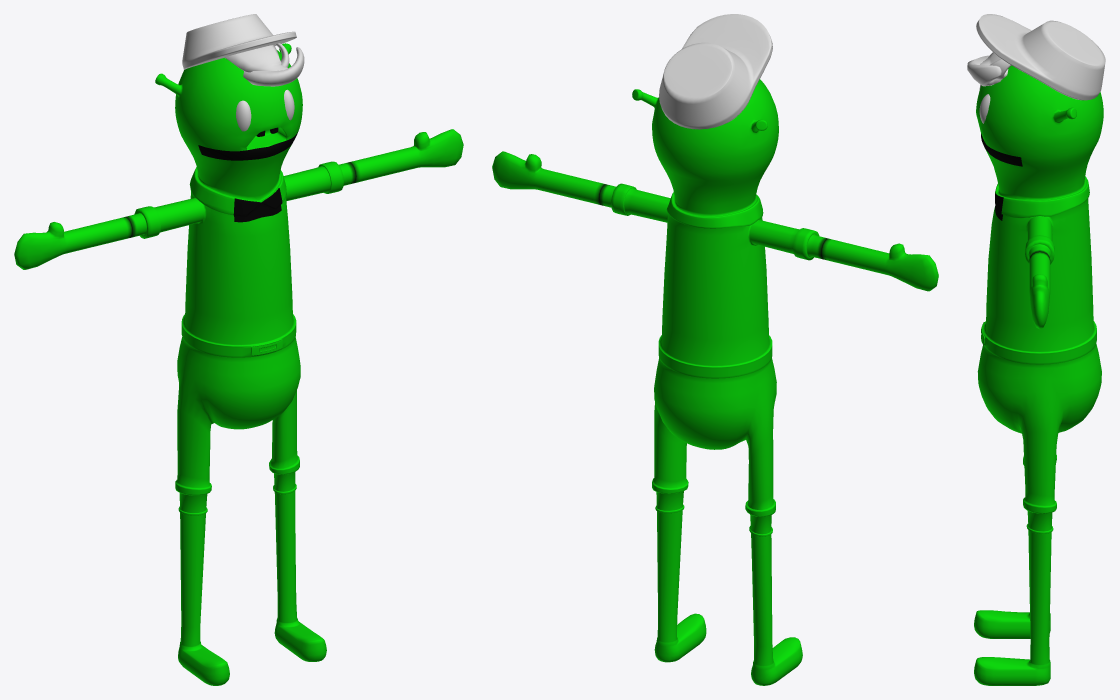
The model's file is Sheldon_Low.fbx.
3 renders of one model, left to right at view 1: azimuth 30°, elevation 25°; view 2: azimuth 150°, elevation 25°; view 3: azimuth 270°, elevation 25°, orthographic.
Parts seen in each view (by area): view 1: Sheldon_low_Low, pCylinder1_Low, pCube2_Low, pCube1_Low; view 2: Sheldon_low_Low, pCylinder1_Low; view 3: Sheldon_low_Low, pCylinder1_Low, pCube1_Low.
Part boxes in pixels (<box>): Sheldon_low_Low: <box>14,43,463,685</box>; pCylinder1_Low: <box>182,14,296,69</box>; pCube2_Low: <box>224,45,287,72</box>; pCube1_Low: <box>243,47,304,86</box>; Sheldon_low_Low: <box>492,79,938,685</box>; pCylinder1_Low: <box>659,14,772,129</box>; Sheldon_low_Low: <box>974,65,1103,685</box>; pCylinder1_Low: <box>976,14,1105,100</box>; pCube1_Low: <box>967,55,1001,86</box>.
Size of the model in its own units: 6.95 by 9.42 by 1.86.
